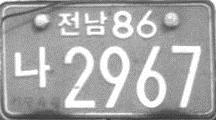2: (64, 45, 97, 109)
6: (134, 44, 167, 107), (135, 8, 157, 39)
7: (169, 43, 202, 109)
8: (112, 9, 133, 38)
9: (97, 42, 132, 110)
나: (12, 46, 51, 90)
전남_O: (56, 10, 107, 38)
